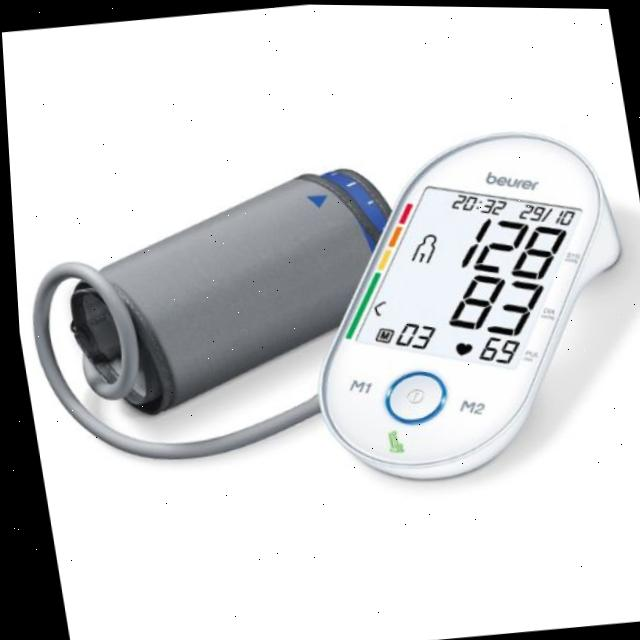dia: (431, 261, 542, 343)
pul: (465, 327, 520, 370)
ssd: (351, 144, 581, 404)
sys: (452, 205, 565, 283)
